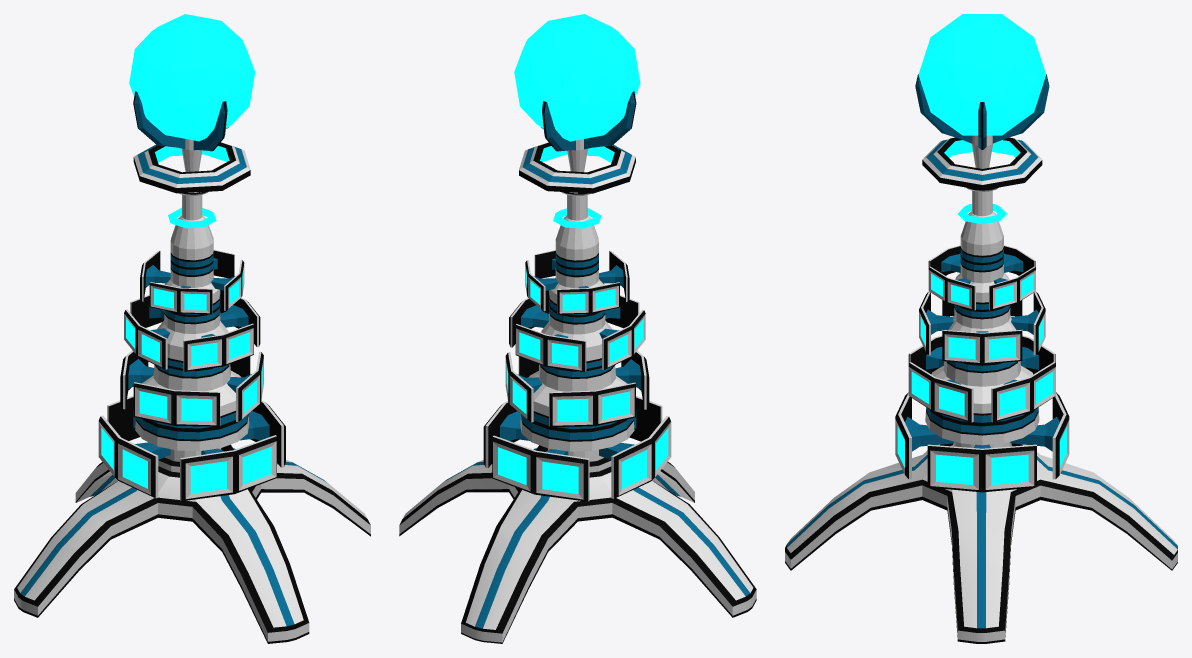
File: башня лазер lend (2).fbx
3 renders of one model, left to right at view 1: azimuth 30°, elevation 25°; view 2: azimuth 150°, elevation 25°; view 3: azimuth 270°, elevation 25°, orthographic.
Parts seen in each view (by area): view 1: Cylinder.003, Cylinder.001; view 2: Cylinder.003, Cylinder.001; view 3: Cylinder.003, Cylinder.001.
Part boxes in pixels (left/top/right/bottom): Cylinder.003: left=14, top=91, right=370, bottom=643; Cylinder.001: left=129, top=14, right=255, bottom=141; Cylinder.003: left=399, top=91, right=756, bottom=643; Cylinder.001: left=514, top=14, right=640, bottom=141; Cylinder.003: left=785, top=74, right=1177, bottom=643; Cylinder.001: left=918, top=14, right=1046, bottom=135.
Size of the model in its own units: 300 by 459 by 300.
